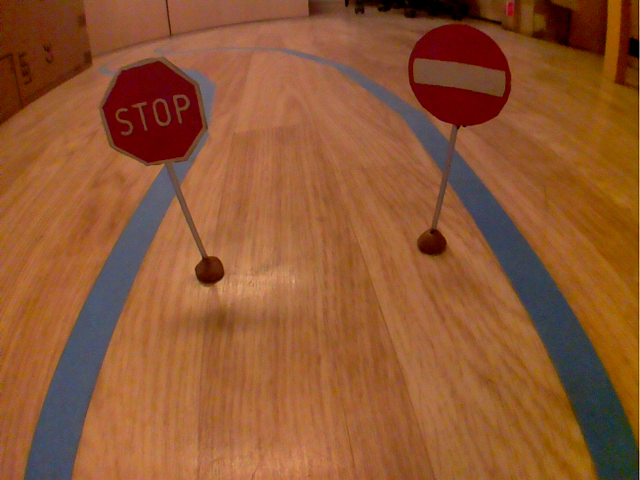Stop: (93, 53, 212, 169)
Zakaz: (402, 18, 515, 130)
